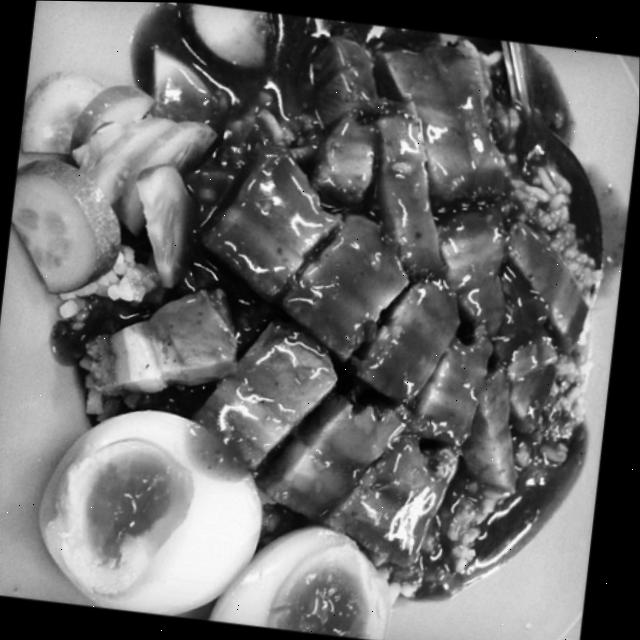猪肉菜式: (0, 3, 624, 640)
